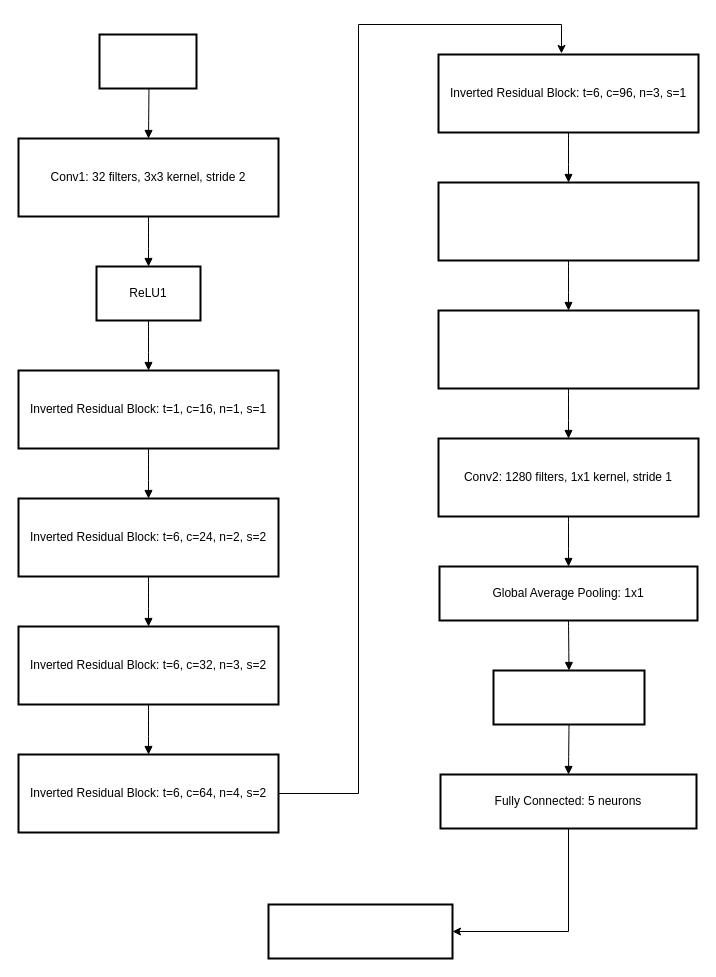
The diagram is 716 pixels wide and 977 high, and some of its shapes have lost their labels. The centre of each missing label's shape, as x and y in pixels:
Dropout: 0.2: the point at 568,697
Input: the point at 147,61
Inverted Residual Block: t=6, c=160, n=3, s=2: the point at 568,221
Inverted Residual Block: t=6, c=320, n=1, s=1: the point at 568,349
Predicted Classes: the point at 360,931
